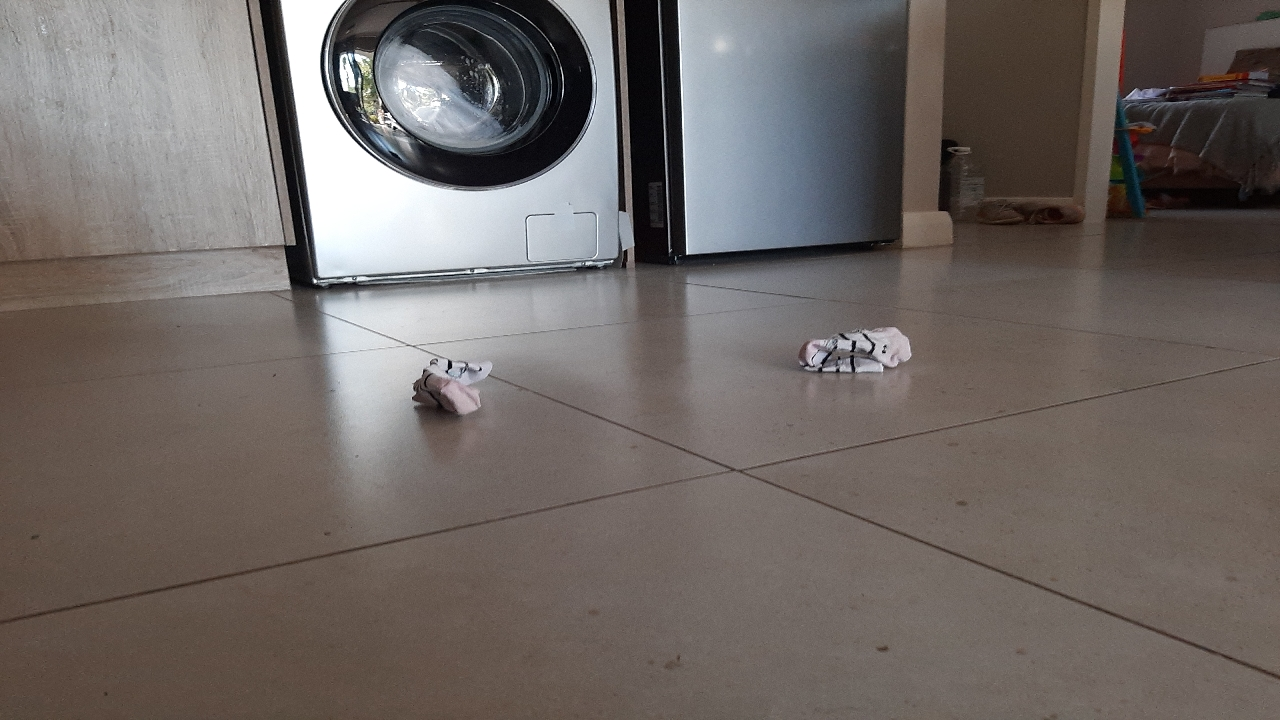socks: (349, 332, 547, 458), (747, 307, 958, 417)
